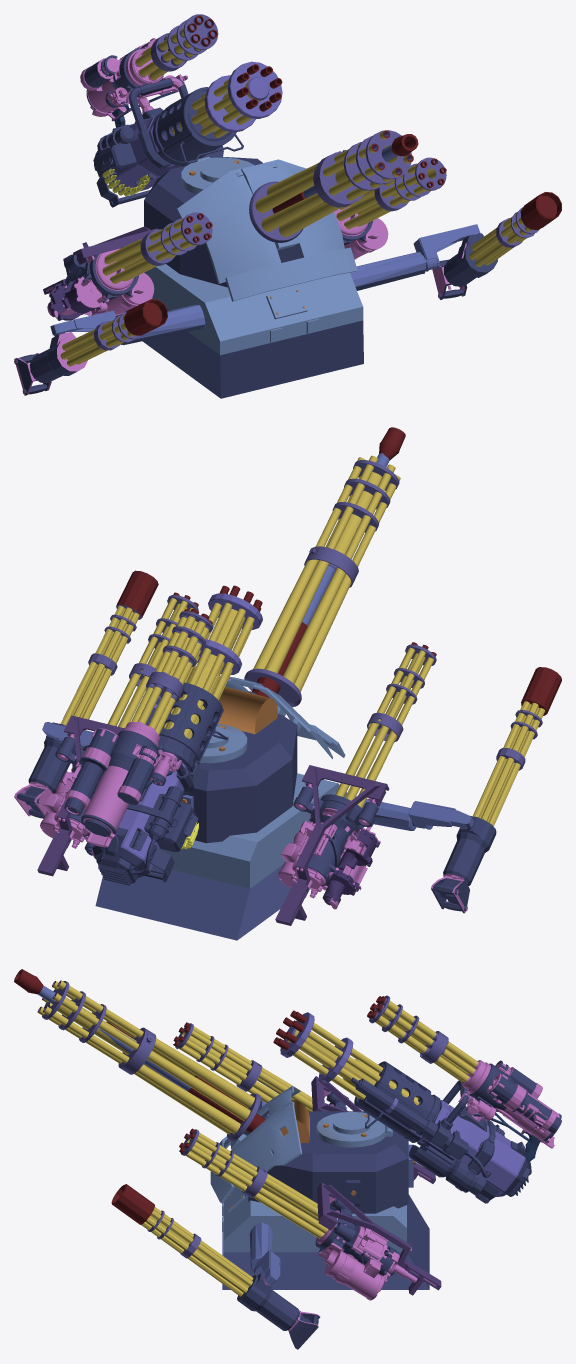
Rendered from Cannon-S-4.fbx.
3 views of the same model, one above another, from view 1: azimuth 30°, elevation 25°; view 2: azimuth 150°, elevation 25°; view 3: azimuth 270°, elevation 25° (orthographic). The views are drawn at different scales.
Visible parts, largest first — view 1: pasted__pasted__pasted__polySurface268, Attack5, Attack3, pasted__pasted__Attack1, Level7_Attack9, Attack12, Level7_polySurface253, Attack14, Attack4; view 2: pasted__pasted__pasted__polySurface268, Attack5, Attack3, pasted__pasted__Attack1, Level7_Attack9, Attack12, Attack4, Attack14, Level7_polySurface253; view 3: pasted__pasted__pasted__polySurface268, Attack5, Attack4, pasted__pasted__Attack1, Level7_Attack9, Attack14, Attack3, Level7_polySurface253.
Part boxes in pixels (bbox=[...]): pasted__pasted__pasted__polySurface268: bbox=[116, 156, 363, 398]; Attack5: bbox=[93, 61, 282, 207]; Attack3: bbox=[43, 212, 212, 320]; pasted__pasted__Attack1: bbox=[249, 130, 418, 242]; Level7_Attack9: bbox=[80, 14, 218, 127]; Attack12: bbox=[14, 299, 167, 395]; Level7_polySurface253: bbox=[50, 224, 480, 345]; Attack14: bbox=[432, 192, 561, 299]; Attack4: bbox=[334, 157, 446, 259]; pasted__pasted__pasted__polySurface268: bbox=[95, 676, 346, 940]; Attack5: bbox=[92, 585, 262, 885]; Attack3: bbox=[275, 642, 436, 925]; pasted__pasted__Attack1: bbox=[244, 427, 405, 707]; Level7_Attack9: bbox=[64, 608, 213, 850]; Attack12: bbox=[431, 667, 561, 913]; Attack4: bbox=[37, 592, 198, 876]; Attack14: bbox=[14, 570, 158, 818]; Level7_polySurface253: bbox=[42, 722, 473, 830]; pasted__pasted__pasted__polySurface268: bbox=[210, 1086, 429, 1289]; Attack5: bbox=[273, 1010, 531, 1203]; Attack4: bbox=[179, 1128, 441, 1300]; pasted__pasted__Attack1: bbox=[14, 969, 265, 1141]; Level7_Attack9: bbox=[367, 995, 561, 1163]; Attack14: bbox=[111, 1184, 320, 1349]; Attack3: bbox=[173, 1022, 435, 1183]; Level7_polySurface253: bbox=[249, 1100, 280, 1285].
Bounding box in the file's own units: 8.46 × 5.99 × 10.27.
